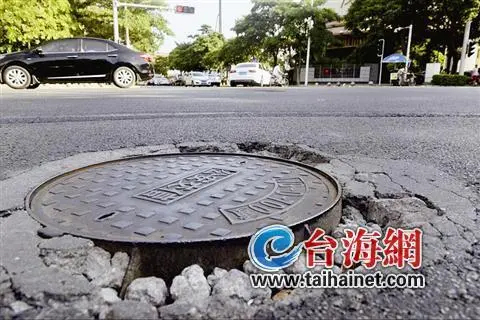circle: (8, 140, 454, 302)
